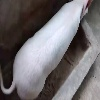heo: (11, 1, 84, 97)
